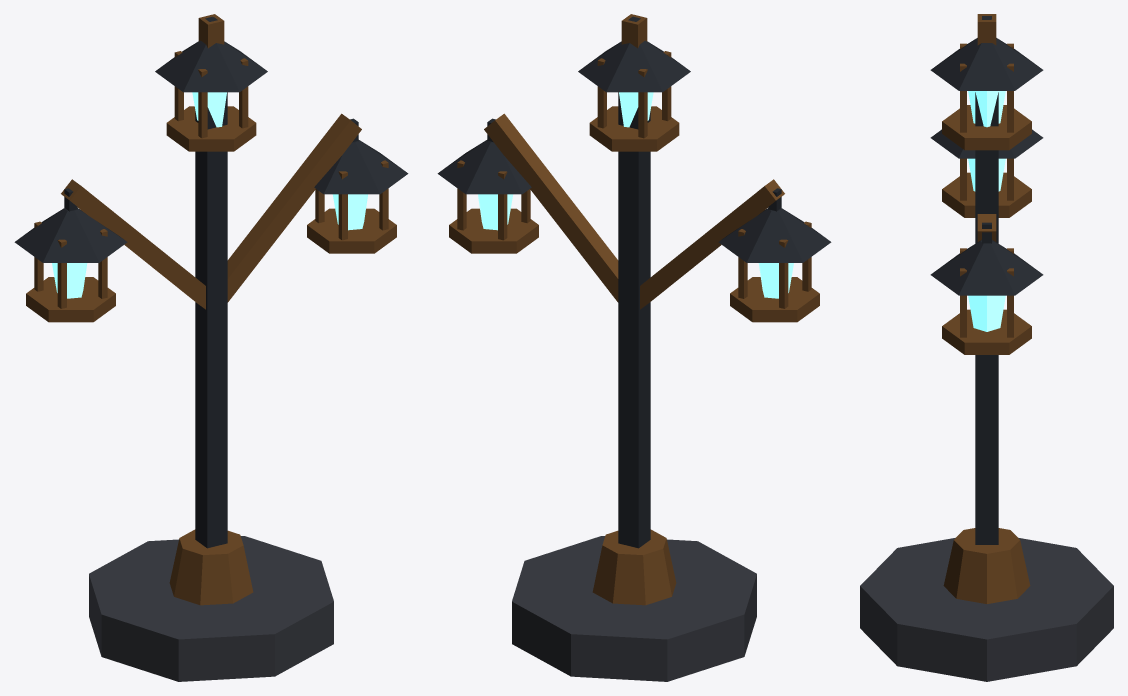
Rendered from Procession_Lantern_Post.glb.
3 renders of one model, left to right at view 1: azimuth 30°, elevation 25°; view 2: azimuth 150°, elevation 25°; view 3: azimuth 270°, elevation 25°, orthographic.
Parts seen in each view (by area): view 1: Procession_Lantern_Post; view 2: Procession_Lantern_Post; view 3: Procession_Lantern_Post.
Part boxes in pixels (bbox=[...]): Procession_Lantern_Post: bbox=[14, 14, 408, 681]; Procession_Lantern_Post: bbox=[437, 14, 831, 681]; Procession_Lantern_Post: bbox=[860, 14, 1113, 681].
Size of the model in its own units: 2.16 by 3.45 by 1.3.
